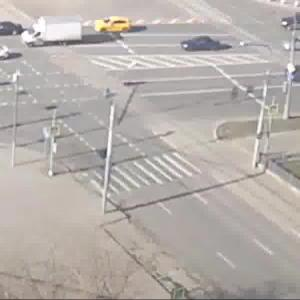car: (22, 22, 84, 49), (180, 33, 226, 59), (93, 15, 127, 33)
